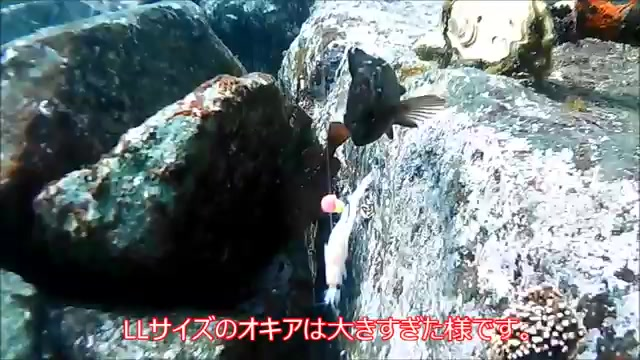mebaru: (329, 40, 449, 174)
